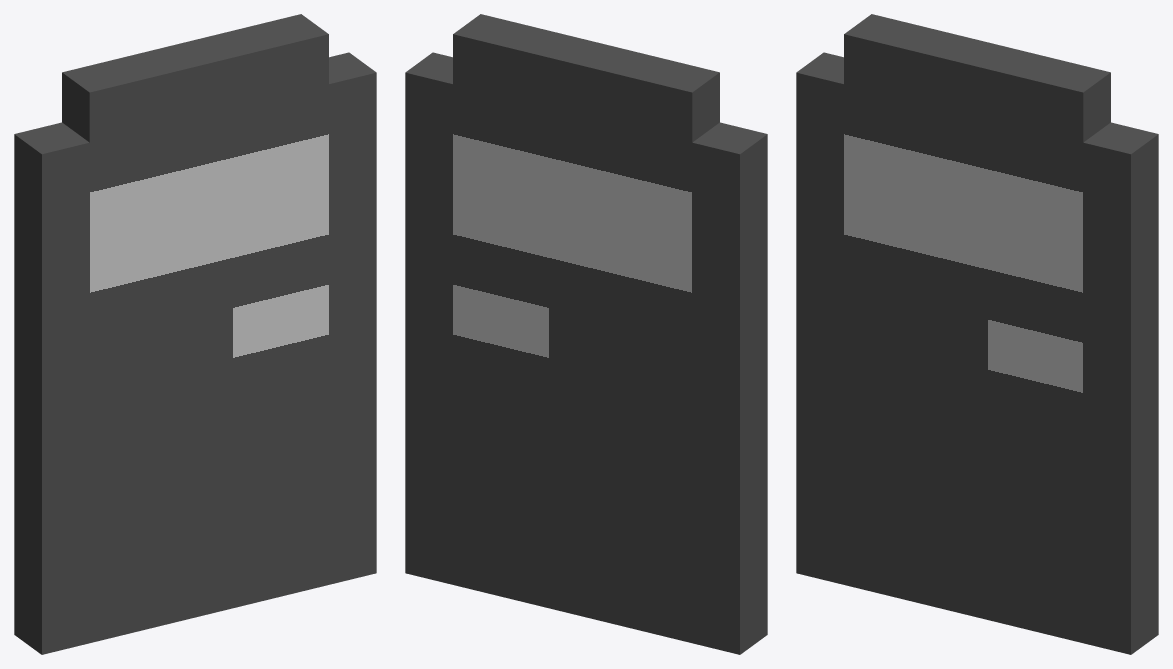
File: PottyBoxDoor.dae
The picture shows the model from 3 angles, left to right: view 1: azimuth 30°, elevation 25°; view 2: azimuth 150°, elevation 25°; view 3: azimuth 330°, elevation 25°; orthographic projection.
Visible parts, largest first — view 1: PottyBoxDoor; view 2: PottyBoxDoor; view 3: PottyBoxDoor.
Part boxes in pixels (x1,y1,x2,y2): PottyBoxDoor: (14,14,376,654); PottyBoxDoor: (405,14,767,654); PottyBoxDoor: (796,14,1158,654).
Bounding box in the file's own units: 0.7 × 0.1 × 1.1.
Materials: 1 (1 with a texture image).
